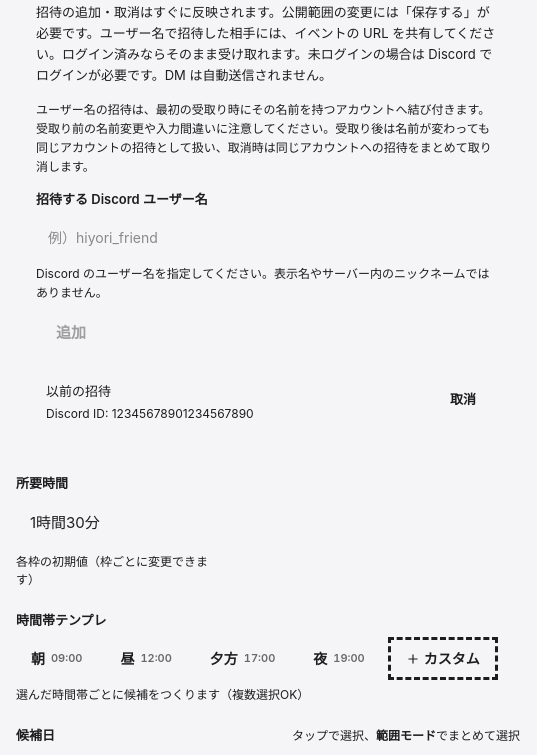
Test case: EventEditPage の招待管理 › 取消に失敗した場合はエラーを示し、既存の招待を残す
This screenshot has width=537, height=755.
(page scrolled)
expect the text "以前の招待" is shown: met, box 46,384 -> 111,399
Click the button with aria-label "の招待を取消" at (463, 400), box 436,382 -> 490,418
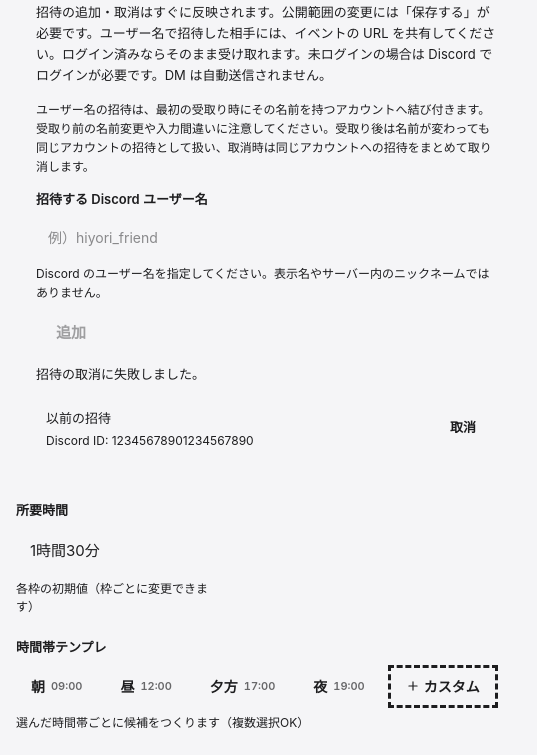
expect the text "以前の招待" is shown: met, box 46,411 -> 111,426
expect the text "招待の取消に失敗しました。" is shown: met, box 36,366 -> 205,382
